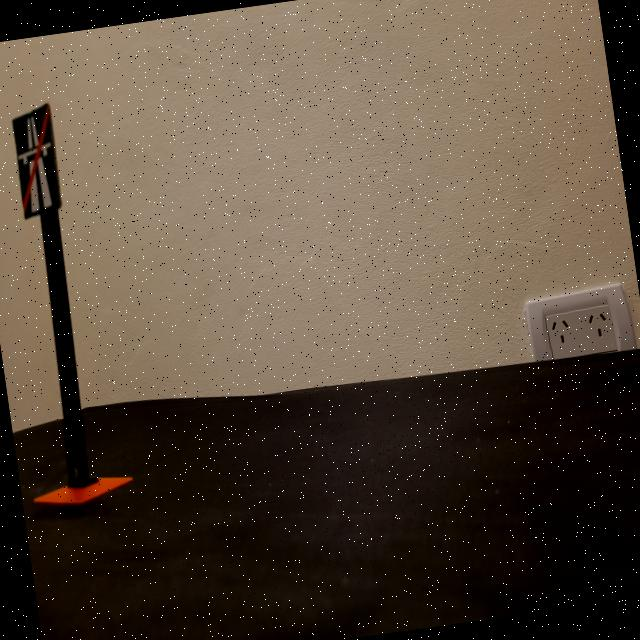highway_exit: (8, 100, 70, 224)
